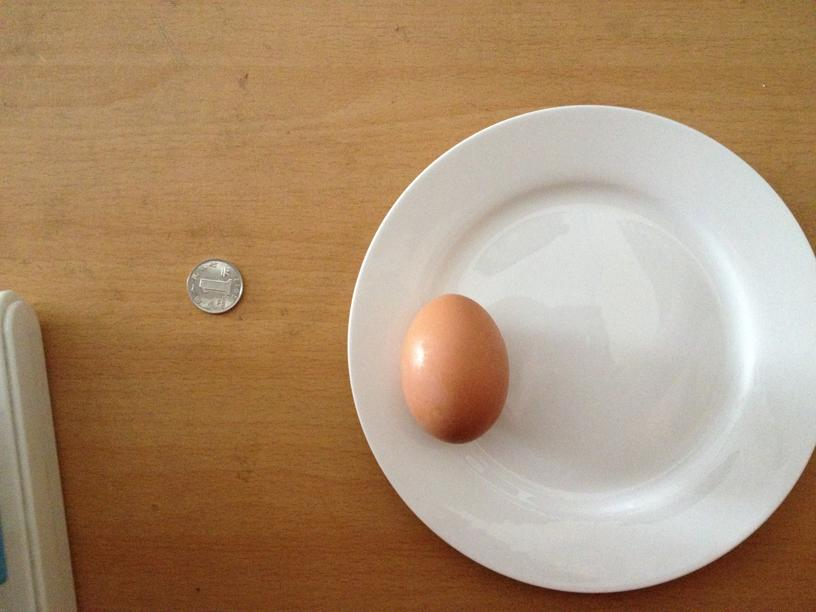coin: (185, 261, 244, 314)
egg: (396, 292, 508, 442)
